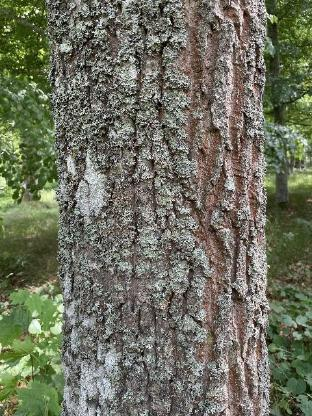tree: (38, 0, 282, 416)
